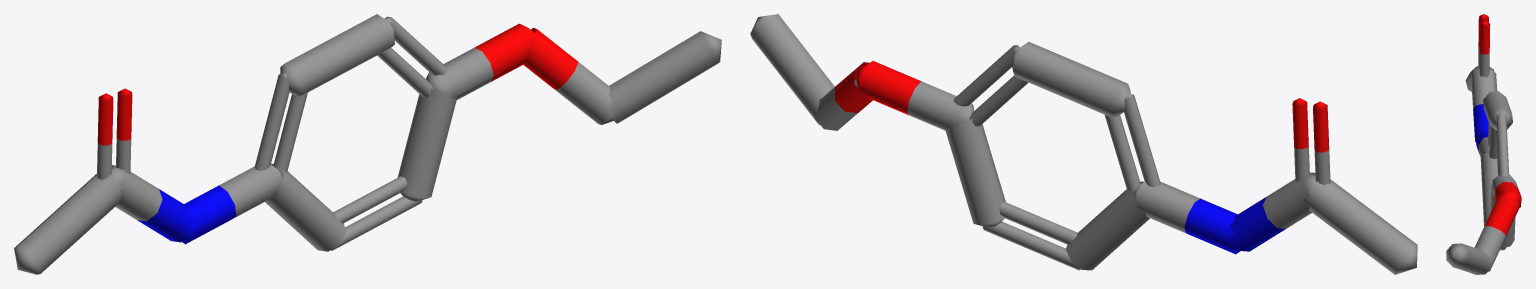
The model's file is phenacetin.glb.
3 views of the same model, side by side, from view 1: azimuth 30°, elevation 25°; view 2: azimuth 150°, elevation 25°; view 3: azimuth 270°, elevation 25° (orthographic). The views are drawn at different scales.
Visible parts, largest first — view 1: node-geom4; view 2: node-geom4; view 3: node-geom4.
Boxes of the visible parts, x1,y1,x2,y2 form: node-geom4: (14,14,721,274); node-geom4: (750,14,1417,274); node-geom4: (1446,14,1521,274).
Bounding box in the file's own units: 10.34 × 3.18 × 1.5.
